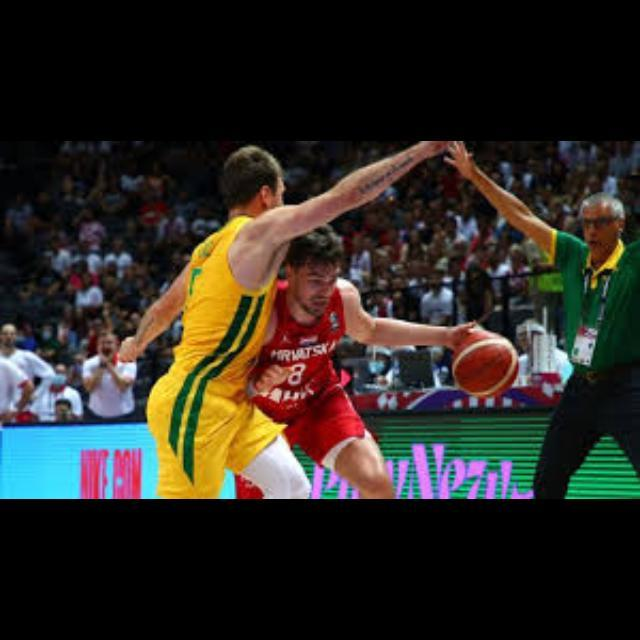basketball: (453, 334, 517, 396)
